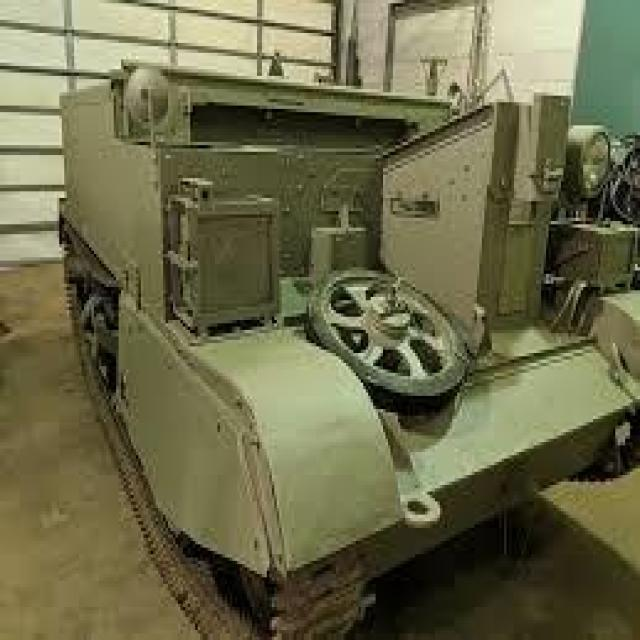Tanks: (57, 58, 635, 628)
